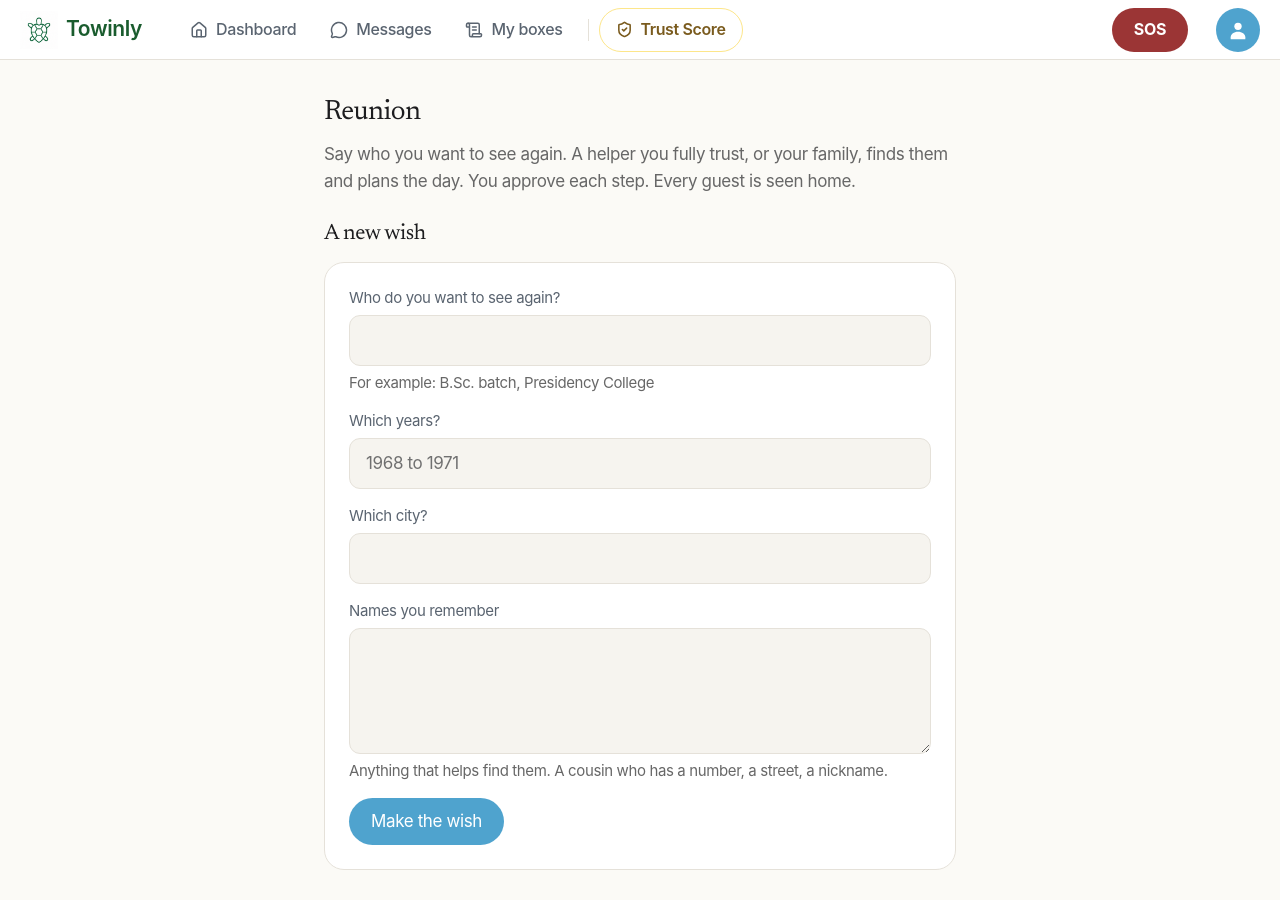
Scenario: Reunion › an empty institution is refused before anything is sent
Step 1. Click the button "Make the wish" → (426,822), box [349, 798, 504, 845]
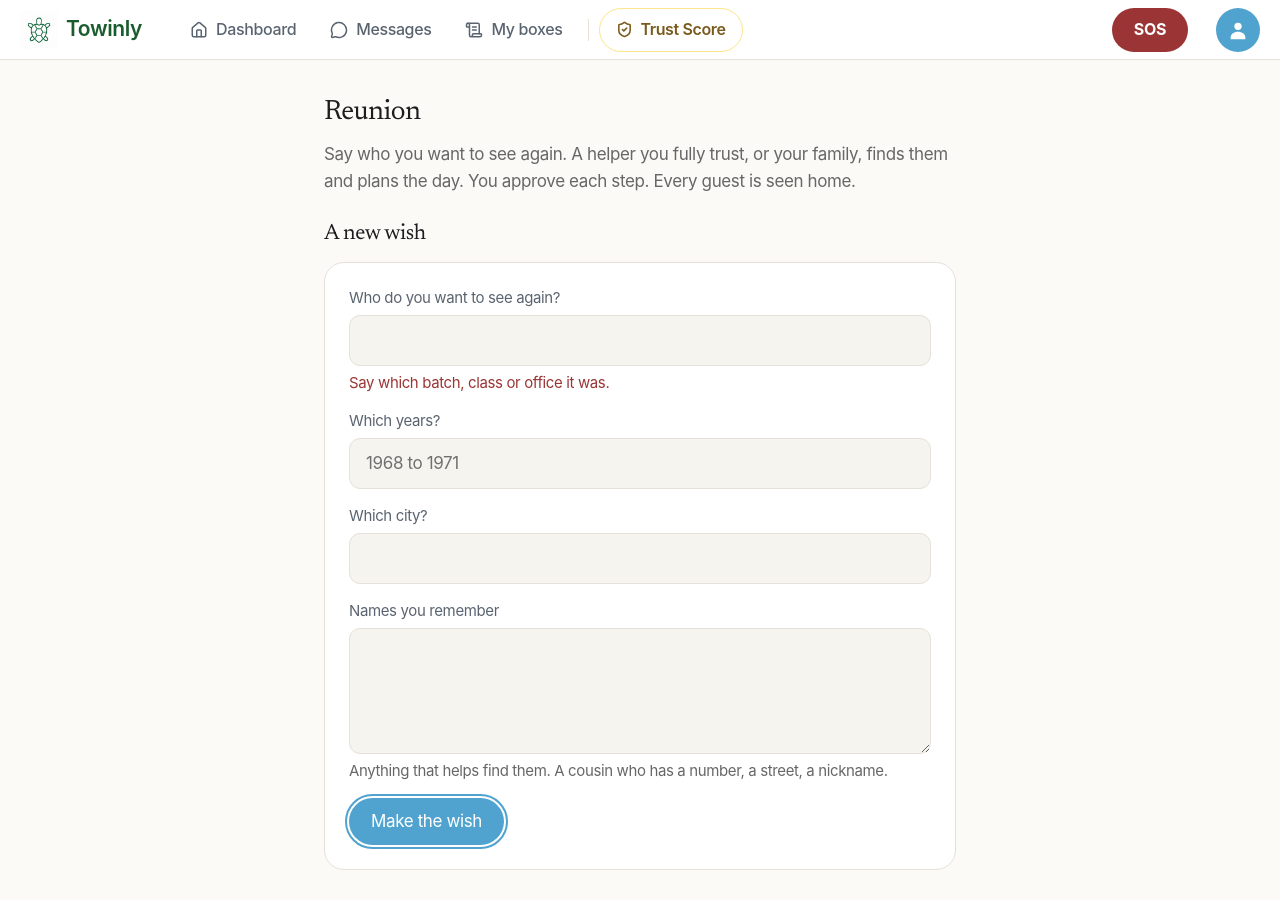
Now the message reads "Say which batch, class or office it was.", box [349, 373, 609, 392]
